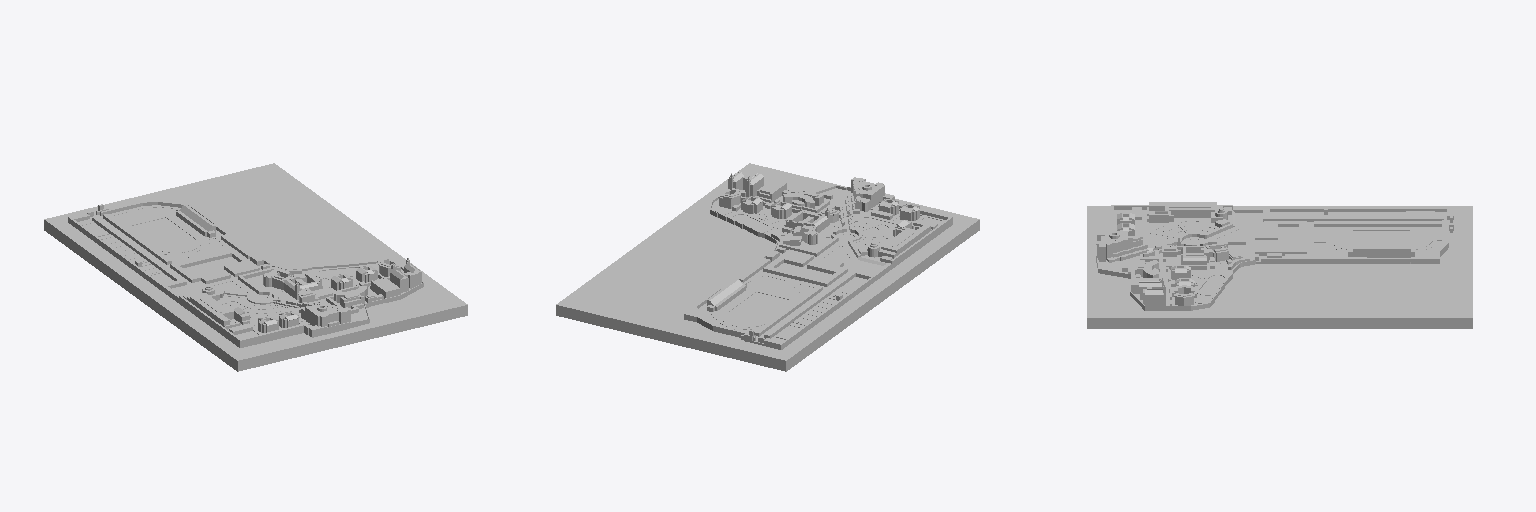
File: school.obj
The picture shows the model from 3 angles: view 1: azimuth 30°, elevation 25°; view 2: azimuth 150°, elevation 25°; view 3: azimuth 270°, elevation 25°; orthographic projection.
Parts seen in each view (by area): view 1: cube, base; view 2: cube, base; view 3: cube, base.
Part boxes in pixels (x1,y1,x2,y2): cube: (68,197,423,347); base: (44,163,467,371); cube: (684,171,952,349); base: (556,163,979,371); cube: (1096,202,1453,310); base: (1087,206,1472,328).
Bounding box in the file's own units: 0.6875 × 0.0969 × 1.